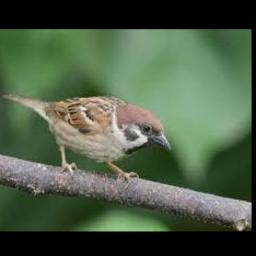Sparrow: (1, 93, 171, 181)
